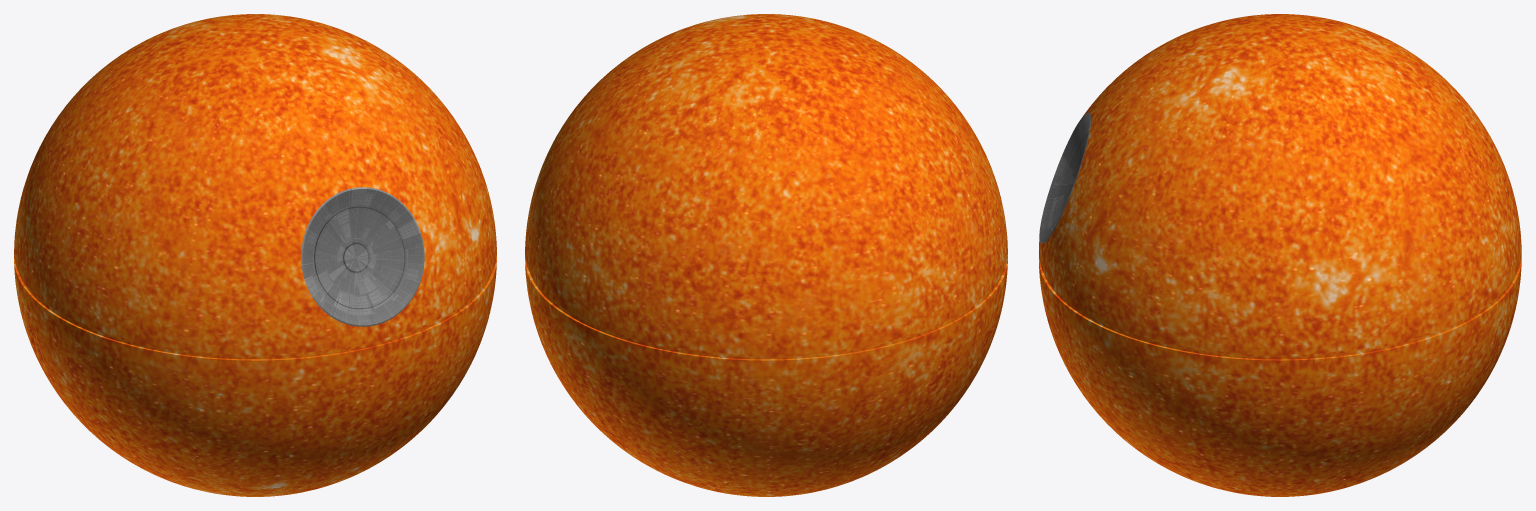
3 renders of one model, left to right at view 1: azimuth 30°, elevation 25°; view 2: azimuth 150°, elevation 25°; view 3: azimuth 270°, elevation 25°, orthographic.
Parts seen in each view (by area): view 1: DeathStar001, DeathStar_misa001; view 2: DeathStar001; view 3: DeathStar001, DeathStar_misa001.
Boxes of the visible parts, x1,y1,x2,y2 form: DeathStar001: (14,14,496,496); DeathStar_misa001: (301,187,424,326); DeathStar001: (525,14,1007,496); DeathStar001: (1039,14,1521,496); DeathStar_misa001: (1039,112,1090,243).
Bounding box in the file's own units: 99.97 × 100 × 100.
